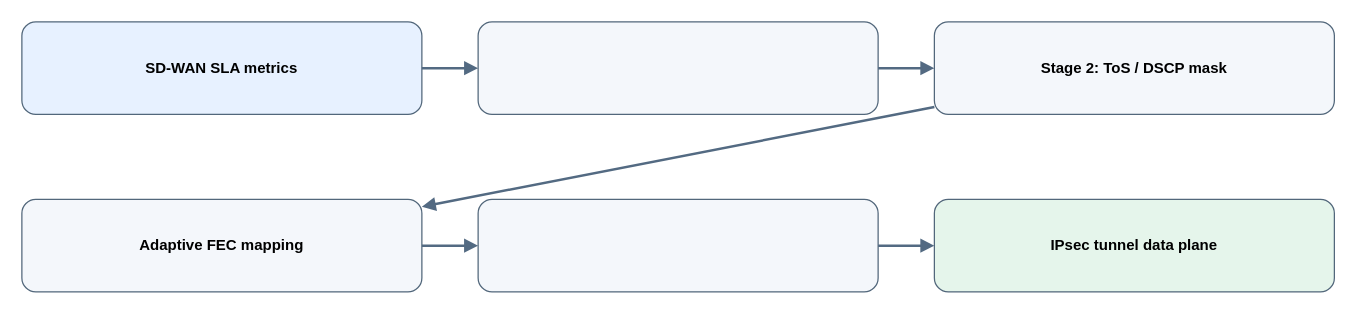
Image size: 1356x314. Some labels were removed from this diagram. Here are the shapes that lost their labels. From the top down, the box of each, then its label:
(477, 21, 878, 114): Stage 1: loss / latency / bandwidth
(477, 198, 878, 292): Redundant packet ratio
